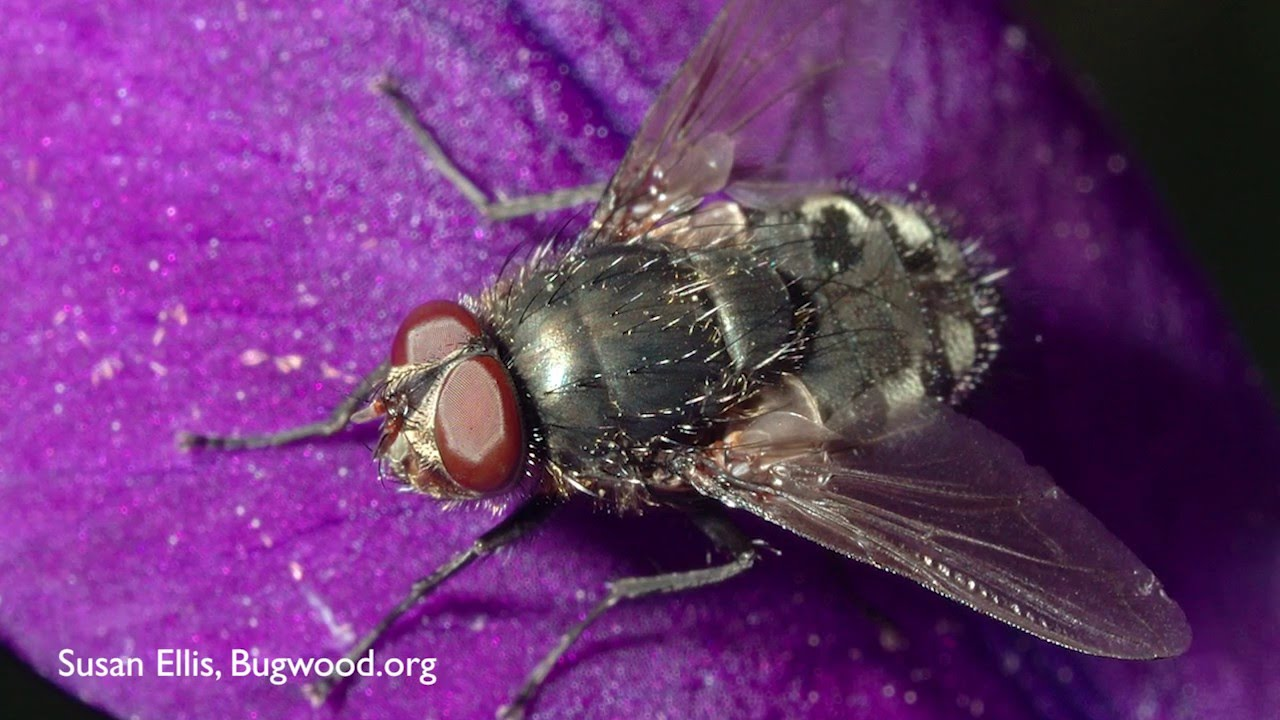house fly: (182, 39, 1196, 703)
